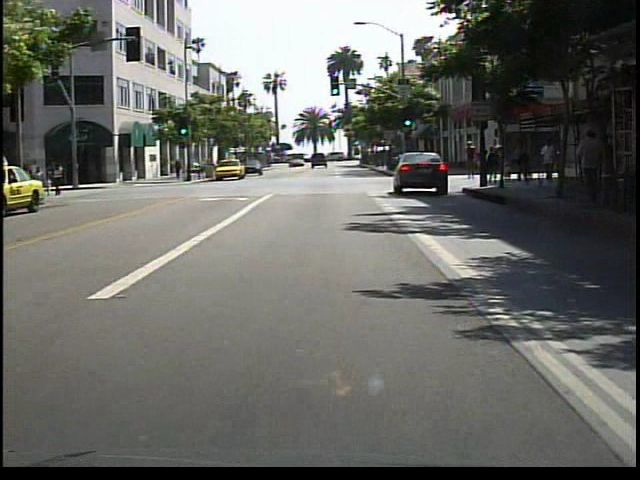person: (51, 160, 73, 201), (463, 139, 480, 184)
